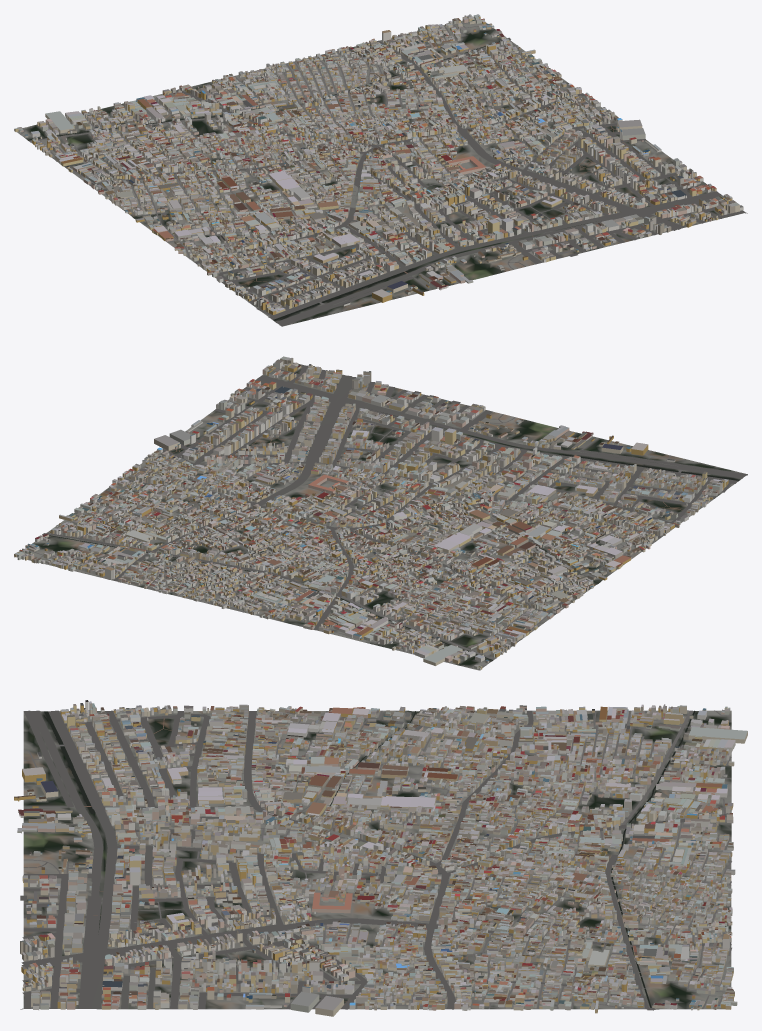
3 renders of one model, top to bottom at view 1: azimuth 30°, elevation 25°; view 2: azimuth 150°, elevation 25°; view 3: azimuth 270°, elevation 25°, orthographic. The views are drawn at different scales.
Visible parts, largest first — view 1: buildings, ground, roads, water; view 2: buildings, ground, roads, water; view 3: buildings, ground, roads, water.
Boxes of the visible parts, bbox=[...] form: buildings: bbox=[14, 14, 743, 314]; ground: bbox=[17, 20, 745, 326]; roads: bbox=[20, 21, 747, 326]; water: bbox=[28, 41, 499, 320]; buildings: bbox=[14, 356, 728, 670]; ground: bbox=[14, 362, 747, 670]; roads: bbox=[27, 363, 747, 668]; water: bbox=[49, 454, 739, 660]; buildings: bbox=[14, 700, 747, 1016]; ground: bbox=[23, 710, 731, 1009]; roads: bbox=[20, 710, 731, 1010]; water: bbox=[44, 710, 695, 1007].
Size of the model in its own units: 1443 by 39.71 by 1452.
